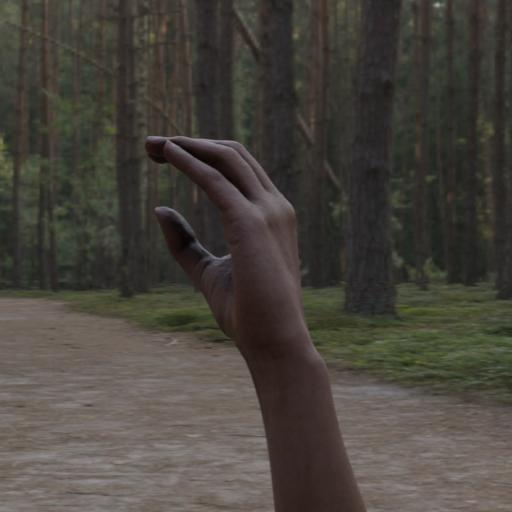C: (129, 122, 383, 508)
